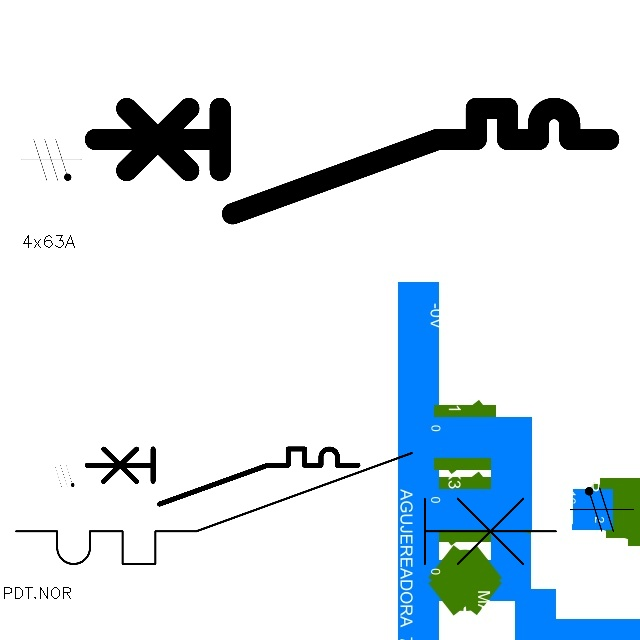interruptor_termomagnetico: (2, 439, 569, 578), (82, 95, 622, 227), (80, 442, 365, 511)
